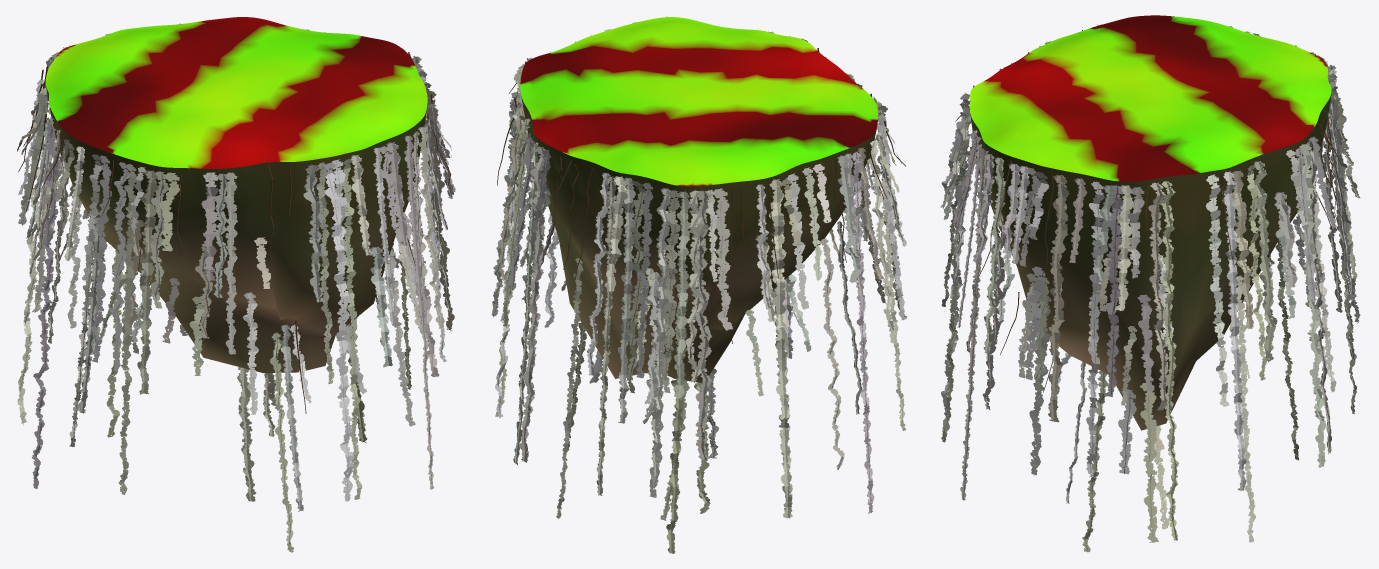
The model's file is SM_H07_Floater06.fbx.
The picture shows the model from 3 angles, left to right: view 1: azimuth 30°, elevation 25°; view 2: azimuth 150°, elevation 25°; view 3: azimuth 270°, elevation 25°; orthographic projection.
Parts seen in each view (by area): view 1: SM_H07_Floater06, SM_H07_Floater06_Ivy; view 2: SM_H07_Floater06, SM_H07_Floater06_Ivy; view 3: SM_H07_Floater06, SM_H07_Floater06_Ivy.
Boxes of the visible parts, box(x1,y1,x2,y2) form: SM_H07_Floater06: box(45, 17, 427, 373); SM_H07_Floater06_Ivy: box(17, 17, 455, 552); SM_H07_Floater06: box(520, 17, 877, 382); SM_H07_Floater06_Ivy: box(491, 16, 906, 553); SM_H07_Floater06: box(970, 15, 1331, 430); SM_H07_Floater06_Ivy: box(940, 16, 1360, 552).
Bounding box in the file's own units: 34.23 × 37.83 × 32.49.
